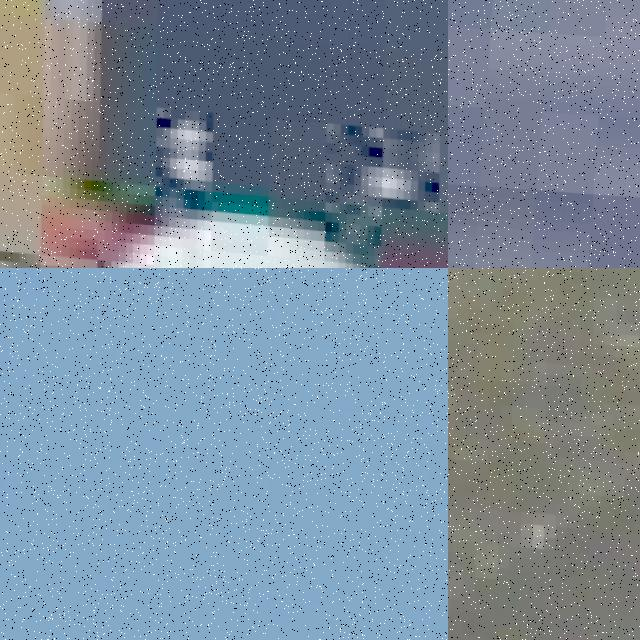0: (0, 0, 448, 268)
drone: (0, 268, 448, 640), (448, 268, 640, 640)
